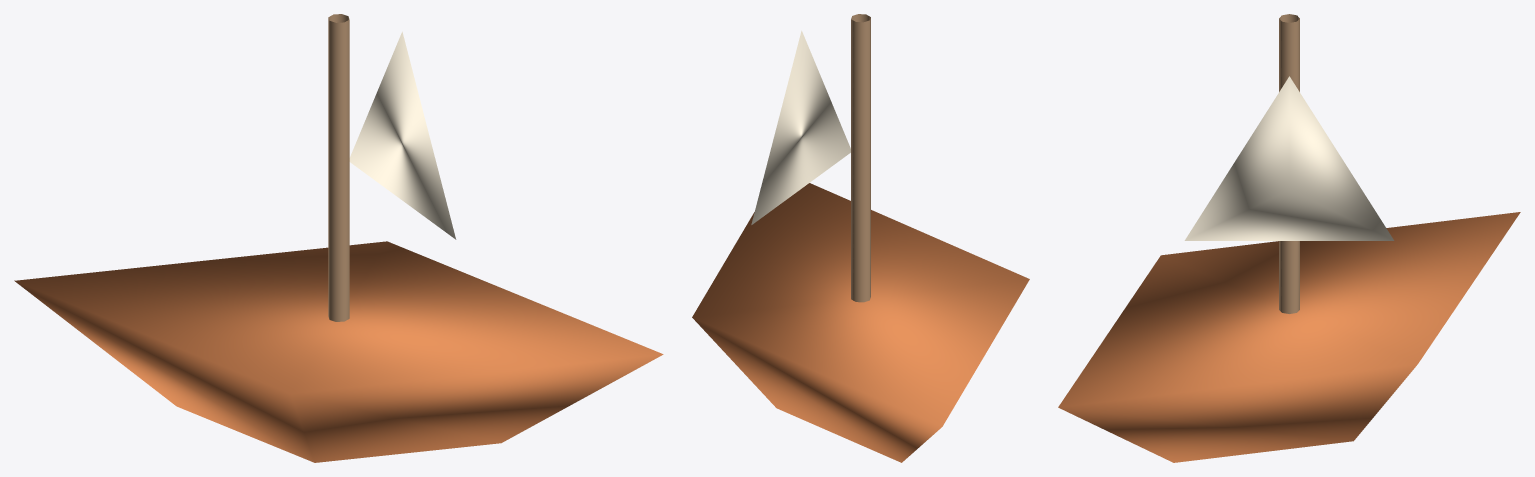
File: word-boat.glb
3 views of the same model, side by side, from view 1: azimuth 30°, elevation 25°; view 2: azimuth 150°, elevation 25°; view 3: azimuth 270°, elevation 25° (orthographic). The views are drawn at different scales.
Visible parts, largest first — view 1: hull, sail, mast; view 2: hull, sail, mast; view 3: hull, sail, mast.
Boxes of the visible parts, bbox=[...] form: hull: bbox=[14, 241, 663, 462]; sail: bbox=[349, 31, 456, 239]; mast: bbox=[328, 14, 349, 321]; hull: bbox=[692, 183, 1029, 462]; sail: bbox=[751, 30, 850, 224]; mast: bbox=[851, 14, 870, 302]; hull: bbox=[1058, 212, 1520, 462]; sail: bbox=[1184, 76, 1394, 240]; mast: bbox=[1279, 14, 1299, 313].
Size of the model in its own units: 1.53 by 1.44 by 1.53.
